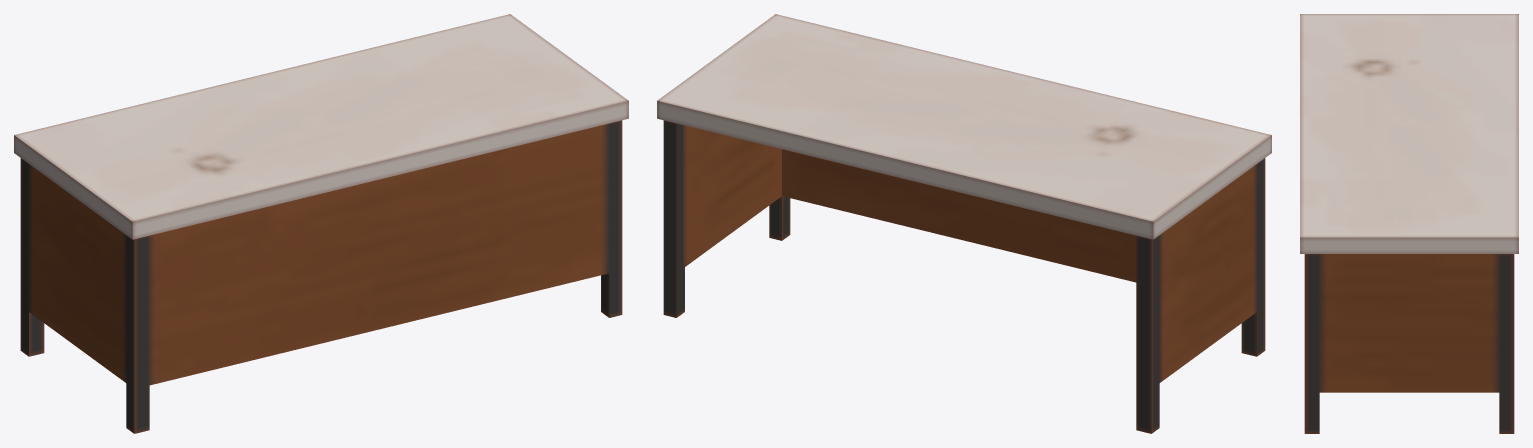
Rendered from Desk.fbx.
The picture shows the model from 3 angles, left to right: view 1: azimuth 30°, elevation 25°; view 2: azimuth 150°, elevation 25°; view 3: azimuth 270°, elevation 25°; orthographic projection. The views are drawn at different scales.
Parts seen in each view (by area): view 1: Desk; view 2: Desk; view 3: Desk.
Boxes of the visible parts, left/top/right/bottom form: Desk: left=14, top=14, right=628, bottom=433; Desk: left=657, top=14, right=1271, bottom=433; Desk: left=1300, top=14, right=1518, bottom=433.
Bounding box in the file's own units: 362 × 150 × 150.
Materials: 1 (1 with a texture image).
